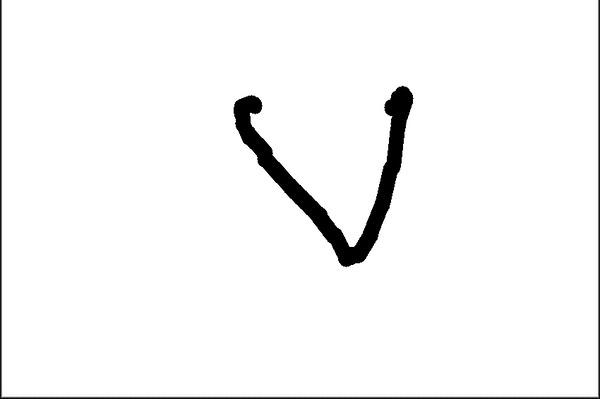V: (226, 72, 420, 275)
